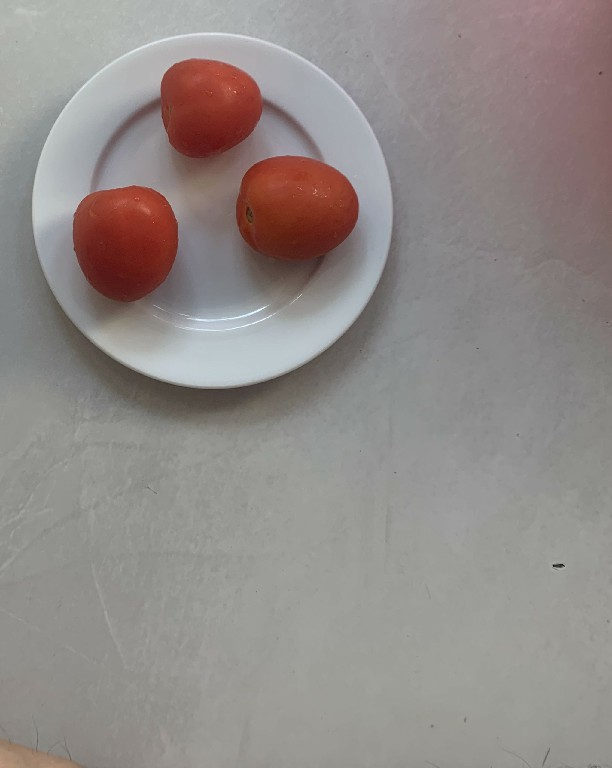OK: (237, 151, 361, 263), (74, 179, 184, 298), (158, 58, 265, 161)
